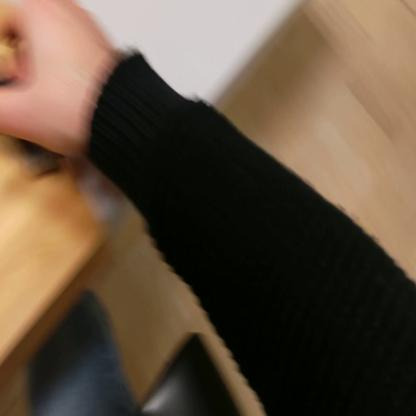hand: (2, 1, 114, 156)
screwdriver-: (1, 73, 85, 170)
working area: (2, 42, 108, 365)
